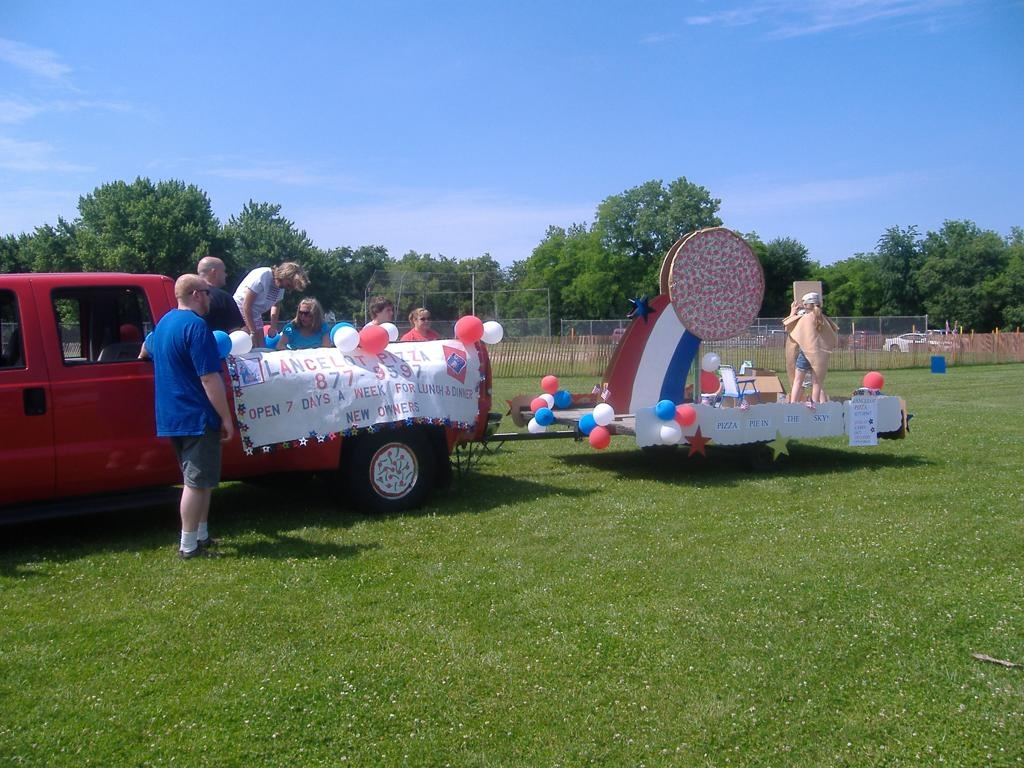human_face: (191, 280, 209, 312), (211, 262, 227, 286), (298, 304, 312, 326), (379, 304, 393, 322), (416, 310, 428, 328), (276, 278, 292, 288), (802, 300, 812, 312)
